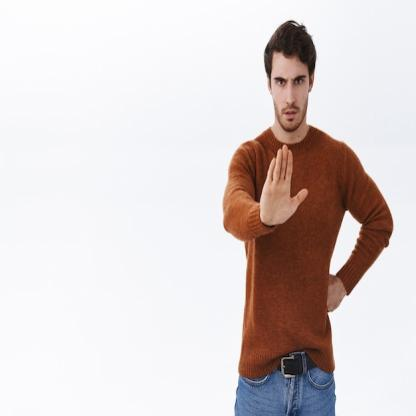stop: (257, 139, 310, 231)
